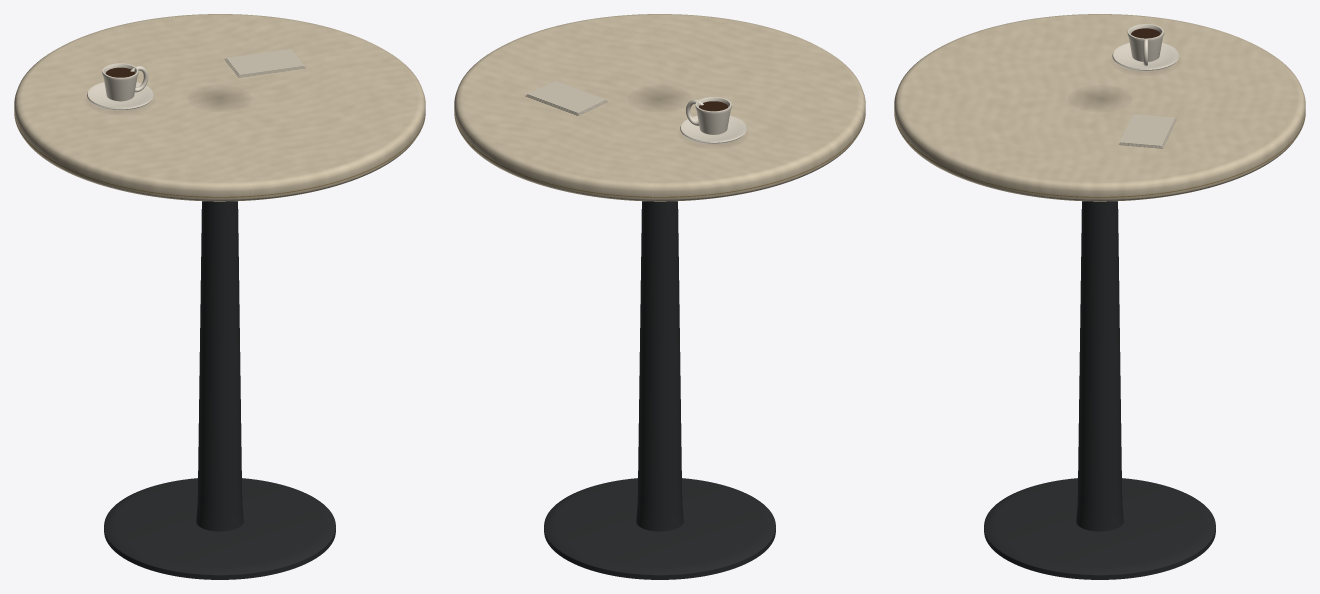
File: cafe-stone.c7cca1c1341a.glb
The picture shows the model from 3 angles, left to right: view 1: azimuth 30°, elevation 25°; view 2: azimuth 150°, elevation 25°; view 3: azimuth 270°, elevation 25°; orthographic projection.
Visible parts, largest first — view 1: walnut_tabletop, weighted_base, pedestal, linen_fold_2, espresso_saucer, espresso_cup, brass_edge_inlay; view 2: walnut_tabletop, weighted_base, pedestal, linen_fold_2, espresso_saucer, espresso_cup, brass_edge_inlay; view 3: walnut_tabletop, weighted_base, pedestal, linen_fold_2, espresso_saucer, espresso_cup, brass_edge_inlay.
Part boxes in pixels (x1,y1,x2,y2): walnut_tabletop: [14, 14, 425, 201]; weighted_base: [104, 478, 335, 579]; pedestal: [196, 201, 243, 531]; linen_fold_2: [226, 49, 304, 75]; espresso_saucer: [87, 82, 153, 110]; espresso_cup: [102, 63, 138, 101]; brass_edge_inlay: [14, 114, 425, 197]; walnut_tabletop: [454, 14, 865, 201]; weighted_base: [544, 478, 775, 579]; pedestal: [636, 201, 683, 531]; linen_fold_2: [527, 80, 606, 113]; espresso_saucer: [680, 115, 746, 143]; espresso_cup: [695, 97, 731, 134]; brass_edge_inlay: [454, 114, 865, 197]; walnut_tabletop: [894, 14, 1305, 201]; weighted_base: [984, 478, 1215, 579]; pedestal: [1076, 201, 1123, 531]; linen_fold_2: [1120, 114, 1175, 146]; espresso_saucer: [1112, 43, 1179, 71]; espresso_cup: [1127, 24, 1164, 61]; brass_edge_inlay: [894, 114, 1305, 197].
Bounding box in the file's own units: 0.6282 × 0.7815 × 0.6282.
7 materials, 2 textured.
